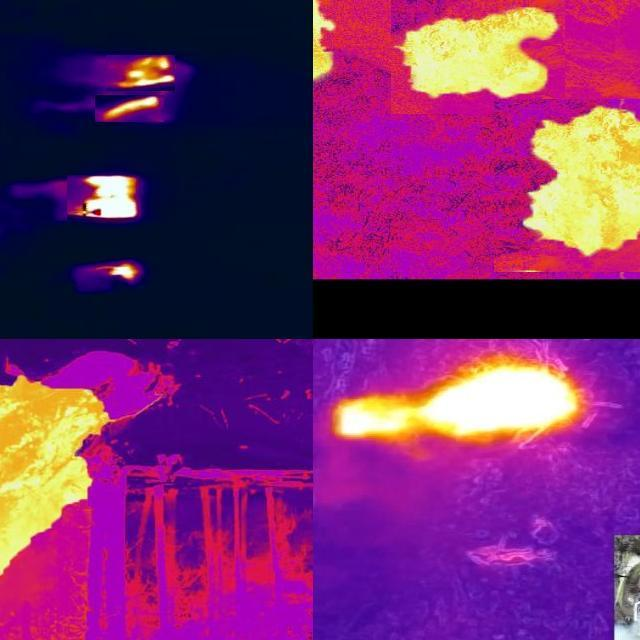fire: (1, 383, 117, 578), (332, 362, 586, 442), (519, 108, 640, 259), (396, 1, 566, 103), (68, 175, 142, 221), (107, 55, 176, 91), (96, 95, 165, 122), (315, 1, 337, 85), (98, 262, 142, 281)
